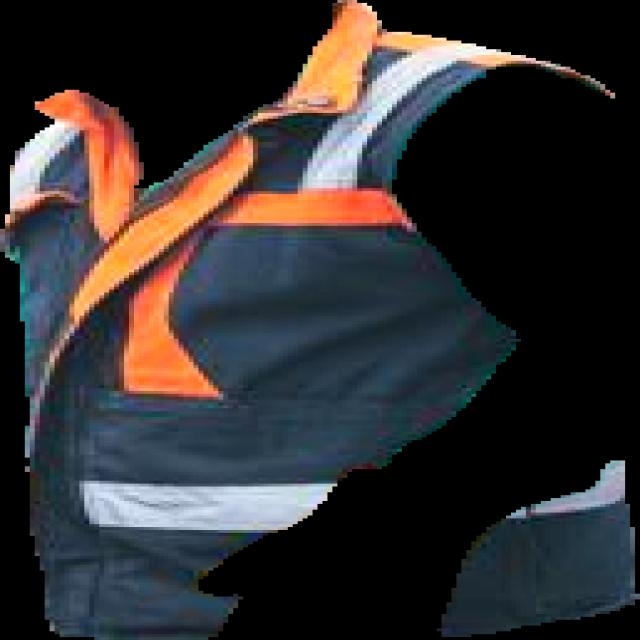Colete: (0, 0, 615, 639)
